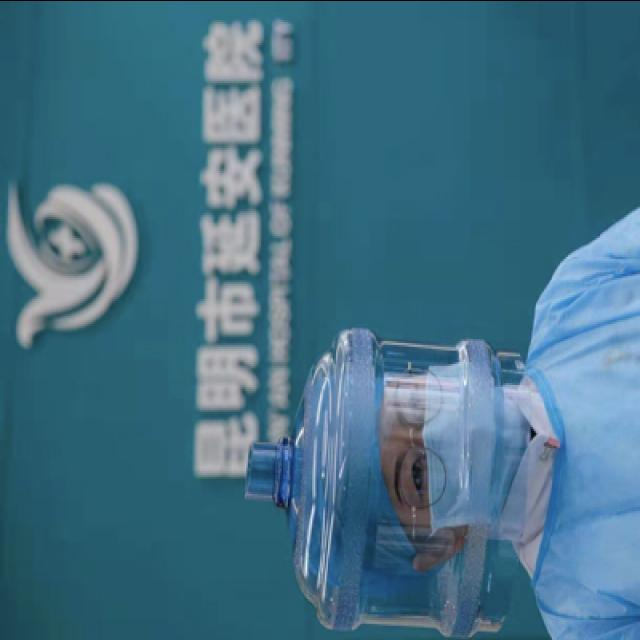mask: (384, 365, 533, 535)
